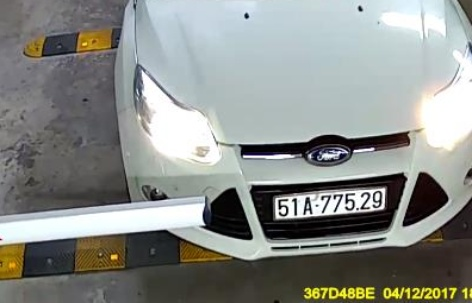plate: (267, 182, 390, 224)
